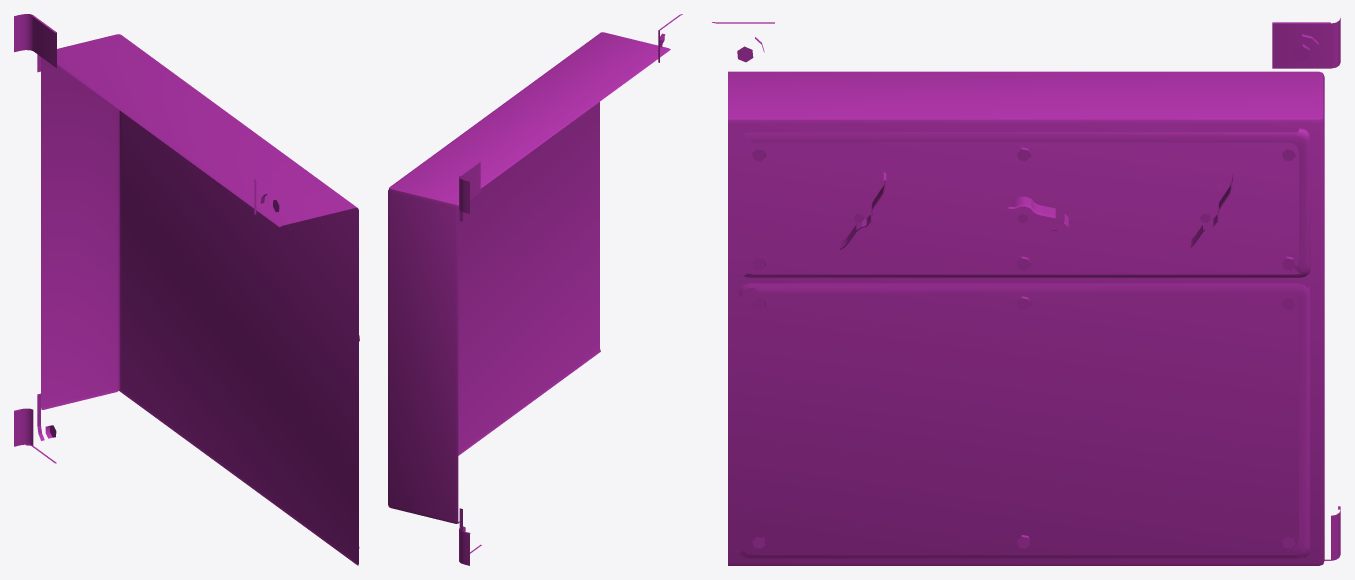
File: Engine4.fbx
The picture shows the model from 3 angles, left to right: view 1: azimuth 30°, elevation 25°; view 2: azimuth 150°, elevation 25°; view 3: azimuth 270°, elevation 25°; orthographic projection. The views are drawn at different scales.
Visible parts, largest first — view 1: Stuf3.001; view 2: Stuf3.001; view 3: Stuf3.001.
Boxes of the visible parts, bbox=[...] form: Stuf3.001: bbox=[14, 14, 359, 565]; Stuf3.001: bbox=[388, 14, 682, 565]; Stuf3.001: bbox=[712, 18, 1340, 565].
Bounding box in the file's own units: 22.7 × 72.32 × 76.75.
